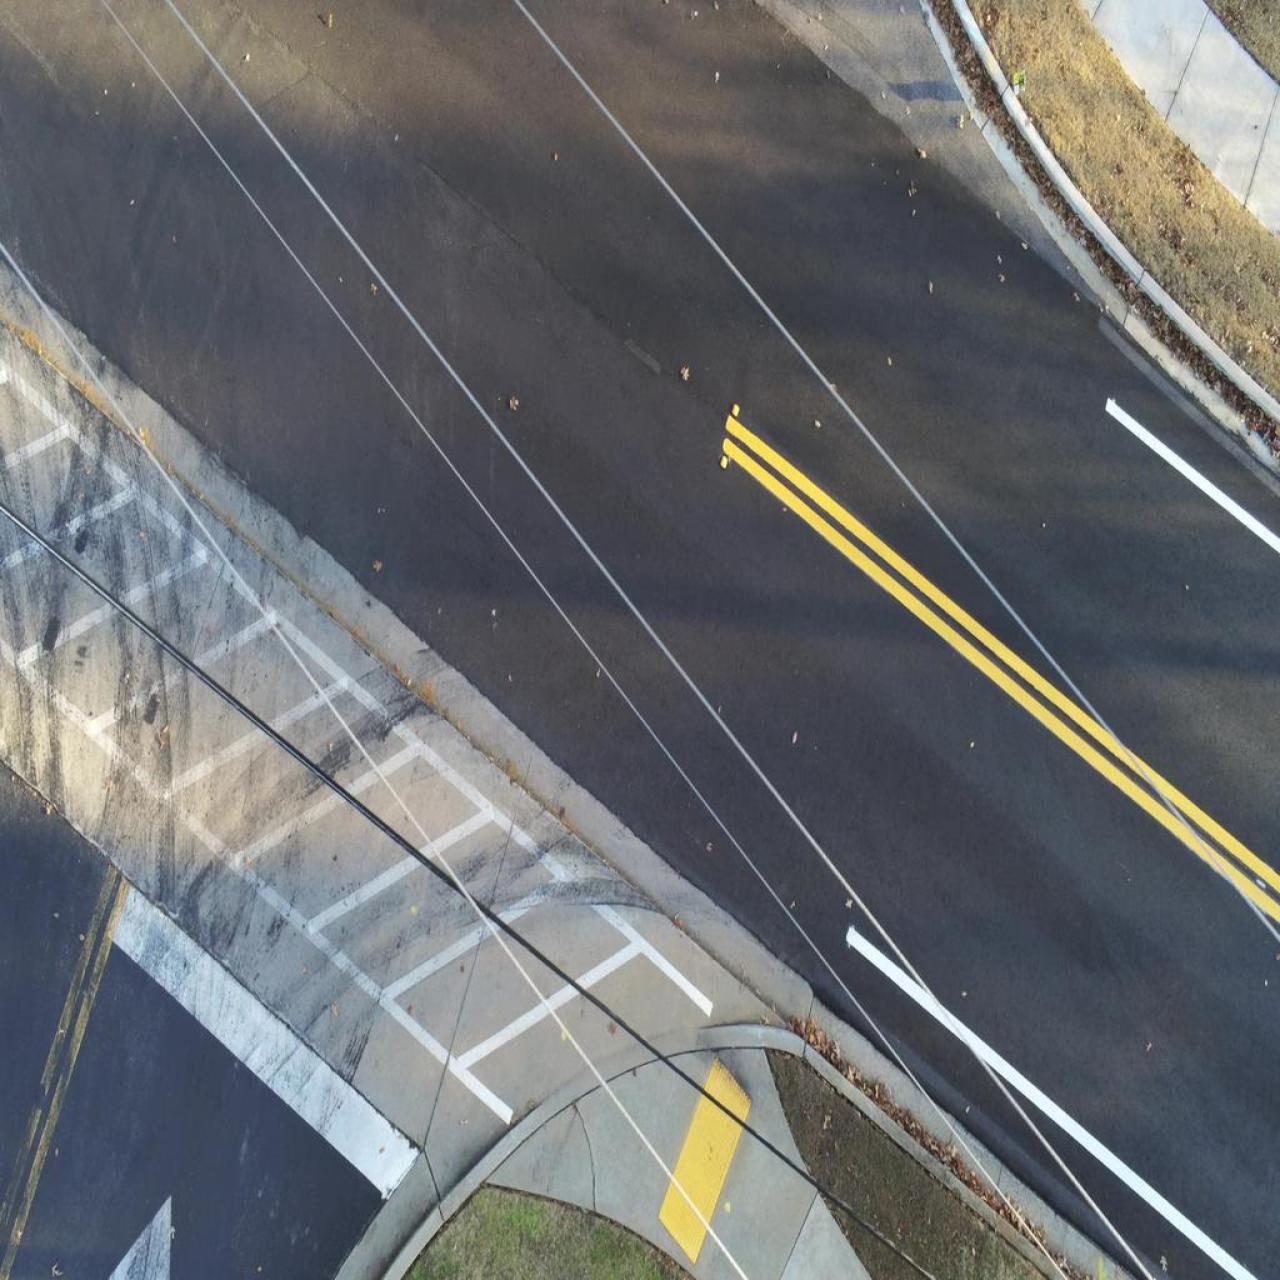cable: (43, 0, 308, 606), (27, 0, 285, 606), (0, 114, 200, 606), (137, 0, 341, 447), (0, 240, 247, 606)
